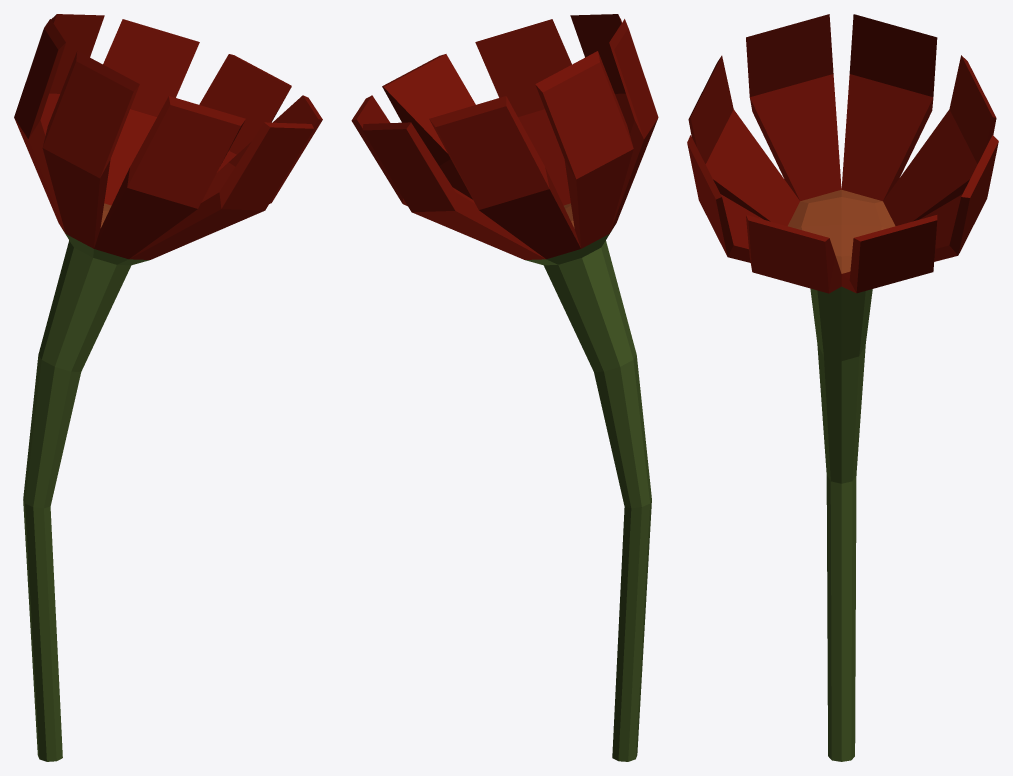
The model's file is Flower2.fbx.
3 views of the same model, side by side, from view 1: azimuth 30°, elevation 25°; view 2: azimuth 150°, elevation 25°; view 3: azimuth 270°, elevation 25° (orthographic). The views are drawn at different scales.
Visible parts, largest first — view 1: Flower2; view 2: Flower2; view 3: Flower2.
Boxes of the visible parts, left/top/right/bottom form: Flower2: left=14, top=14, right=322, bottom=761; Flower2: left=351, top=14, right=658, bottom=761; Flower2: left=687, top=14, right=998, bottom=761.
Size of the model in its own units: 14.31 by 34.92 by 13.1.
